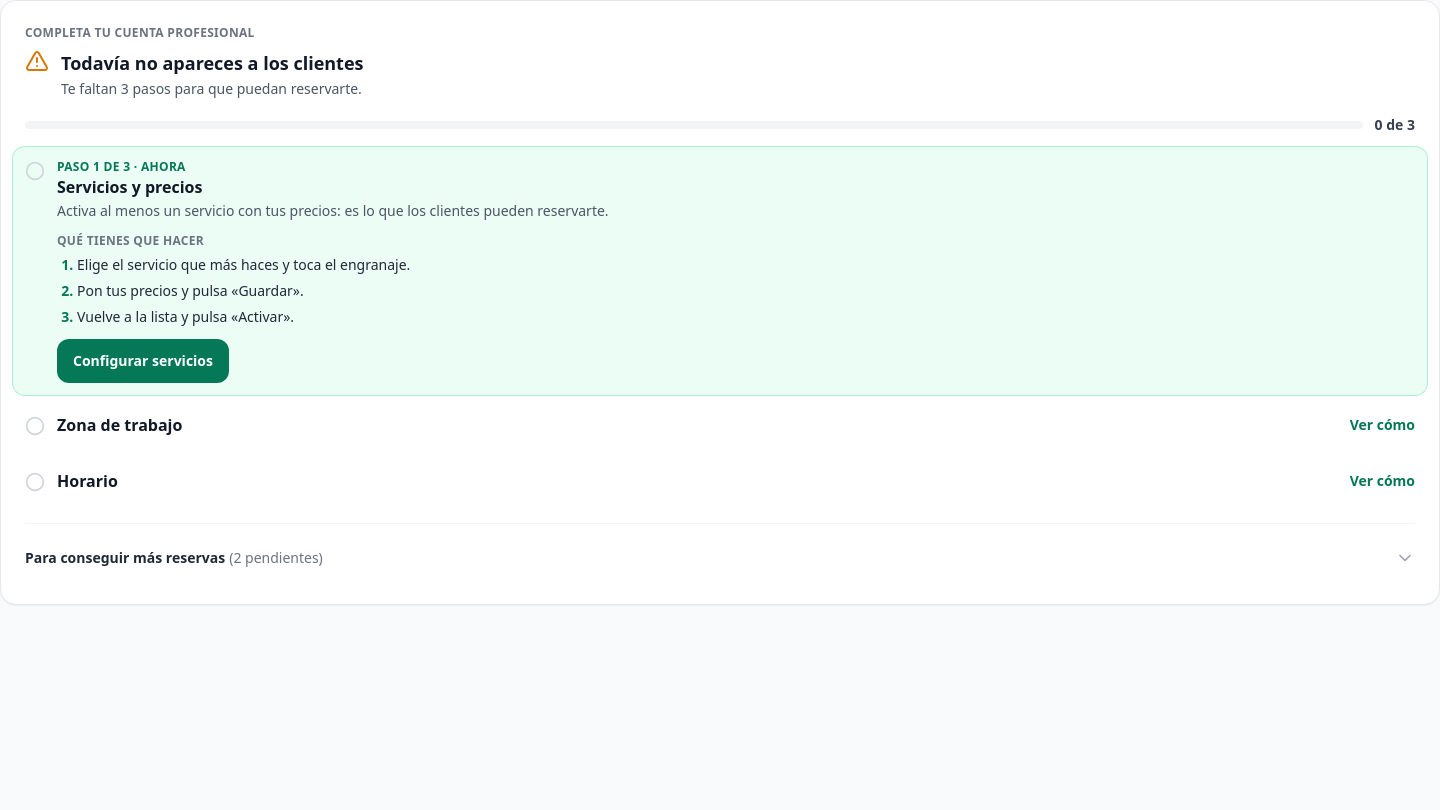
Test: ProviderSetupChecklist › guiada: un paso a la vez (fallo 7.2) › «Ver cómo» abre ese paso con sus acciones y «Ocultar» lo vuelve a plegar
Expected: the heading "Todavía no apareces a los clientes" is shown, [61, 49, 364, 77]
Click the button with aria-label "Ver cómo hacer: Horario" at (1382, 481), box [1350, 459, 1415, 503]
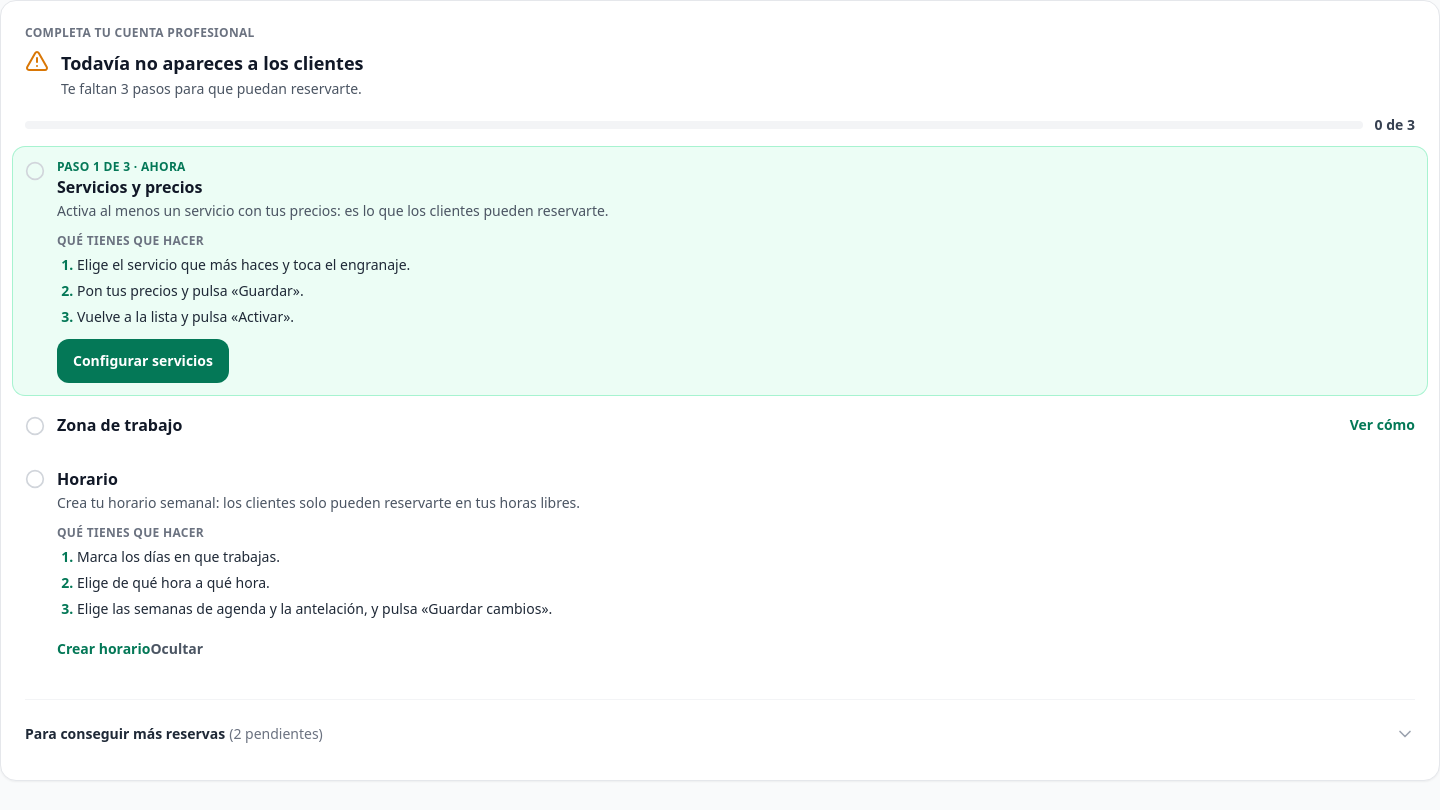
Result: the list item "Marca los días en que trabajas." is shown at [77, 547, 280, 566]
Click the button "Ocultar" at (177, 649), box [150, 627, 203, 671]
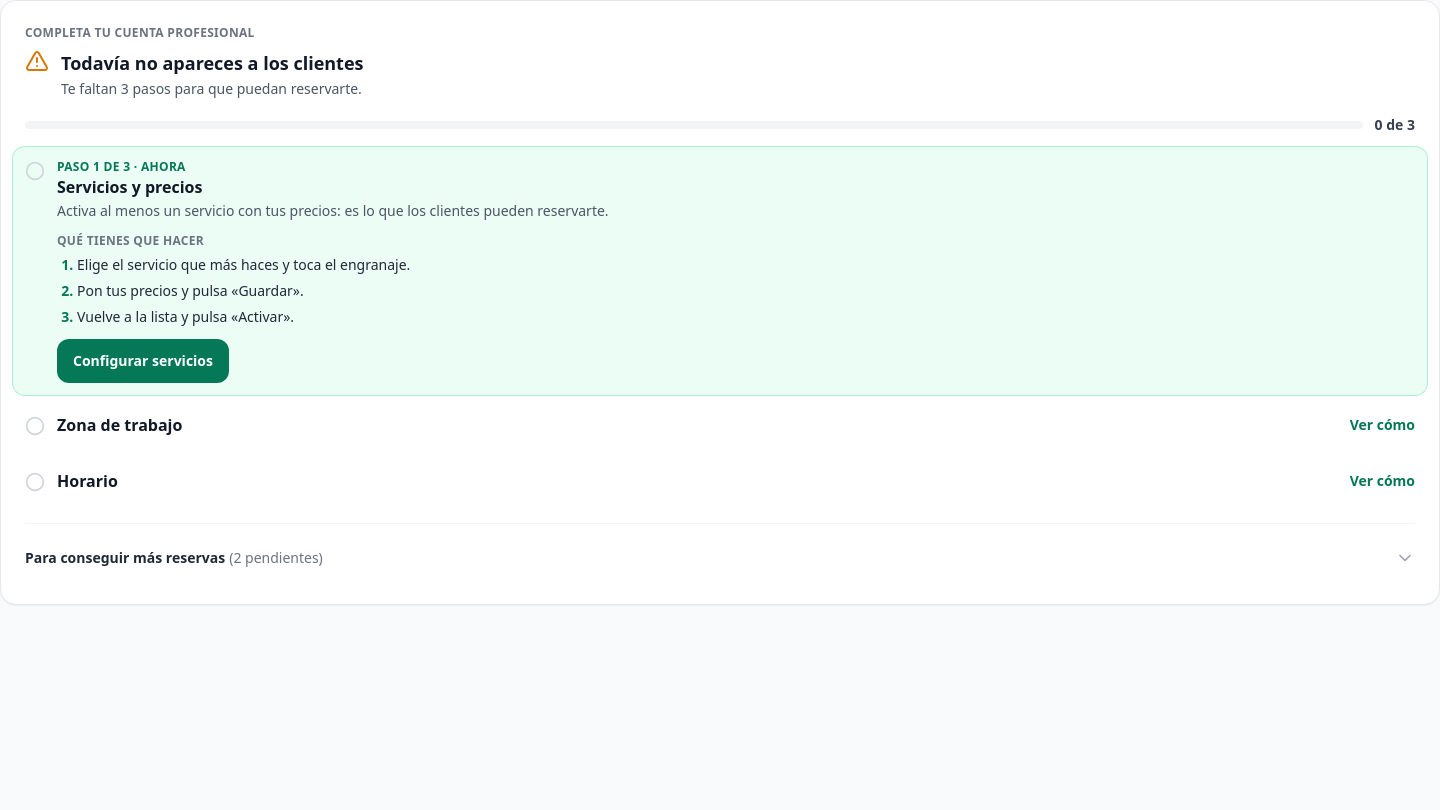
Result: the list item "Marca los días en que trabajas." is gone
Result: the button with aria-label "Ver cómo hacer: Horario" is shown at [1350, 459, 1415, 503]
